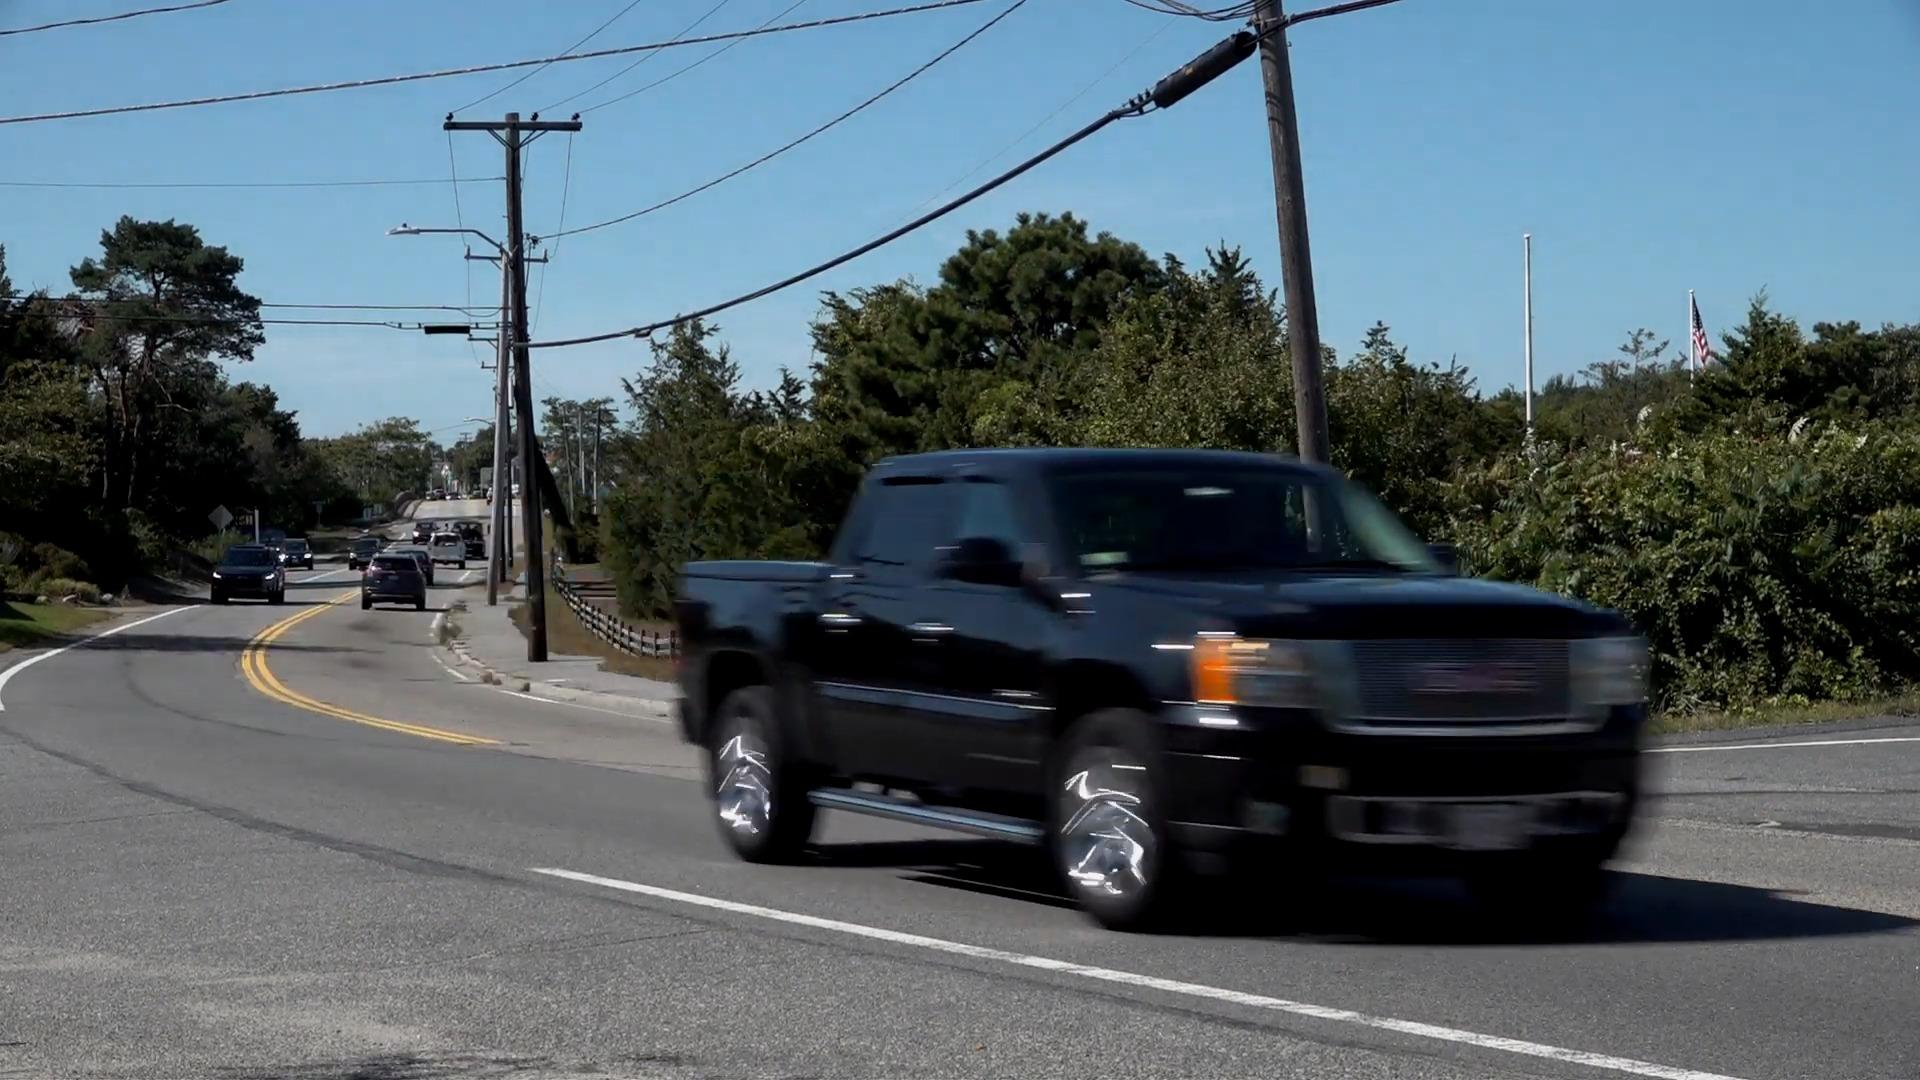pickup: (661, 446, 1663, 931)
sedans: (208, 534, 281, 611)
suv: (361, 548, 430, 613)
